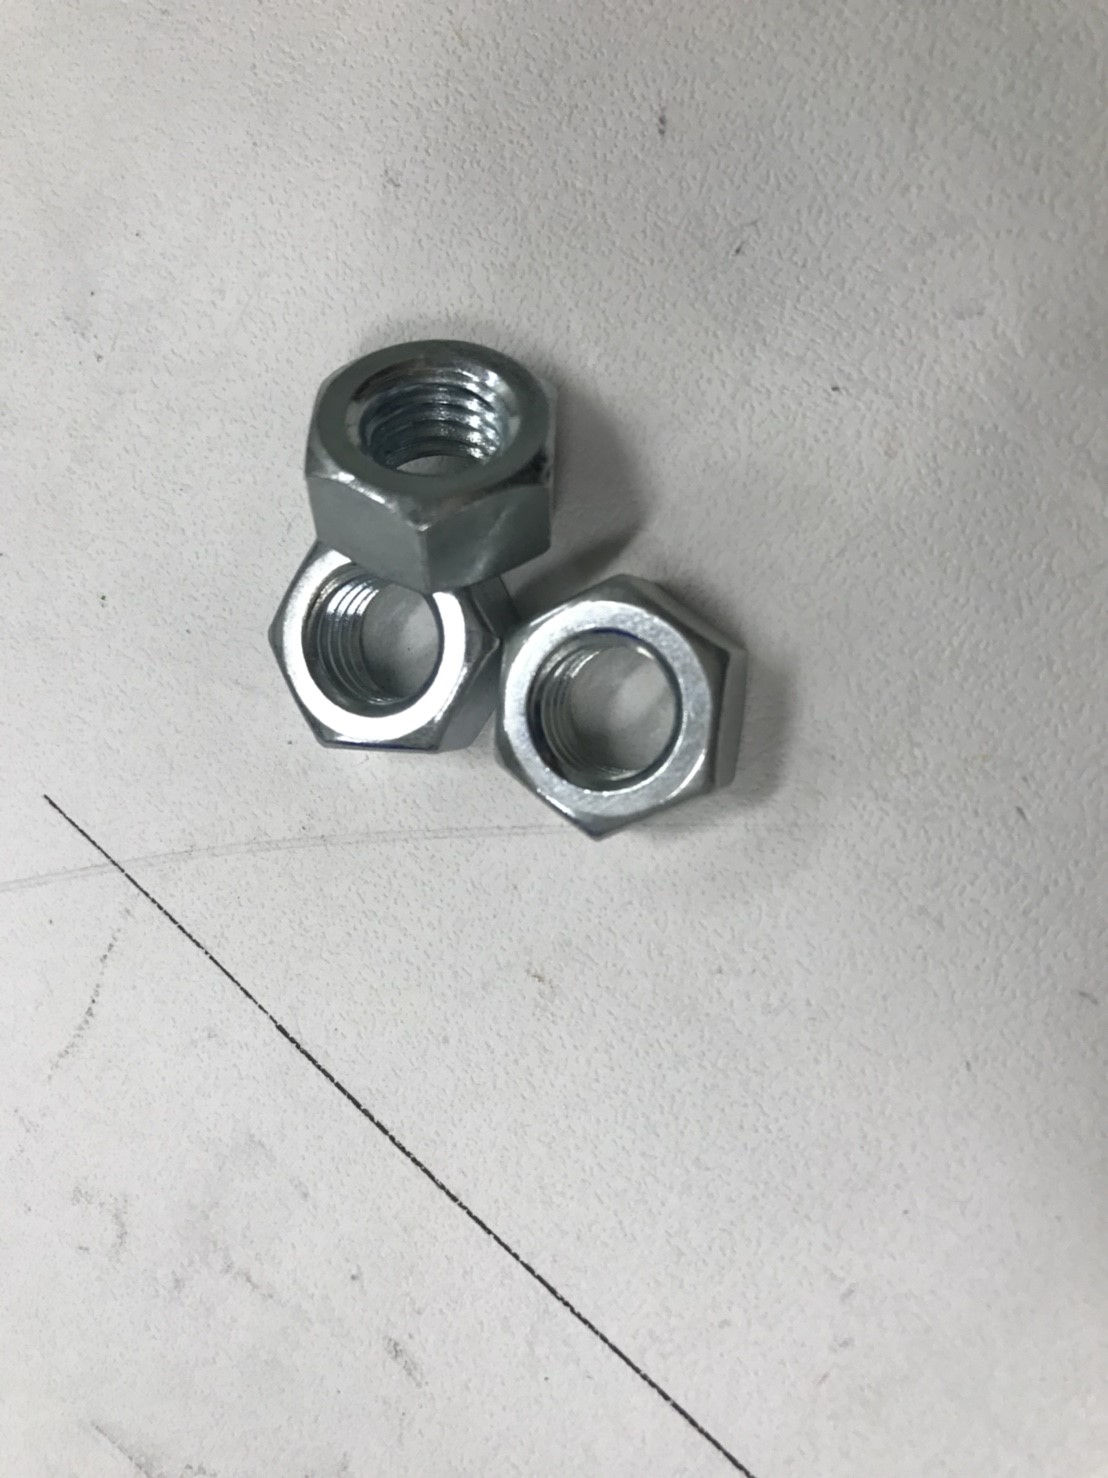nut: (486, 574, 766, 844), (308, 336, 557, 594), (258, 525, 514, 763)
